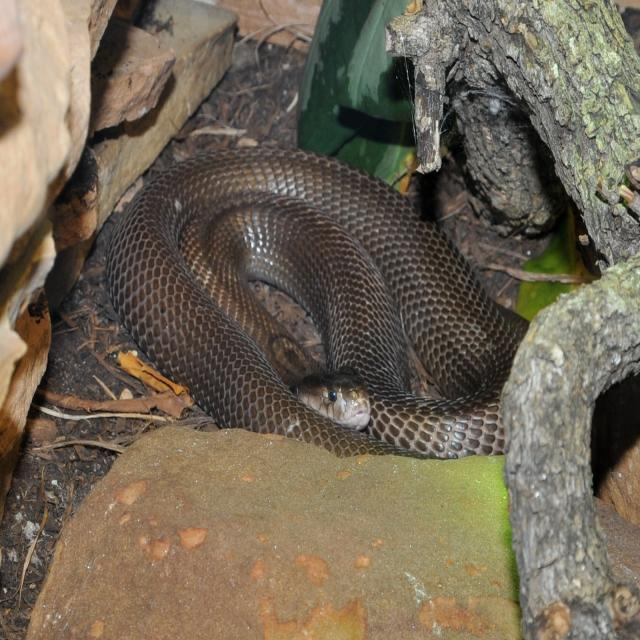Snake: (105, 140, 513, 460)
